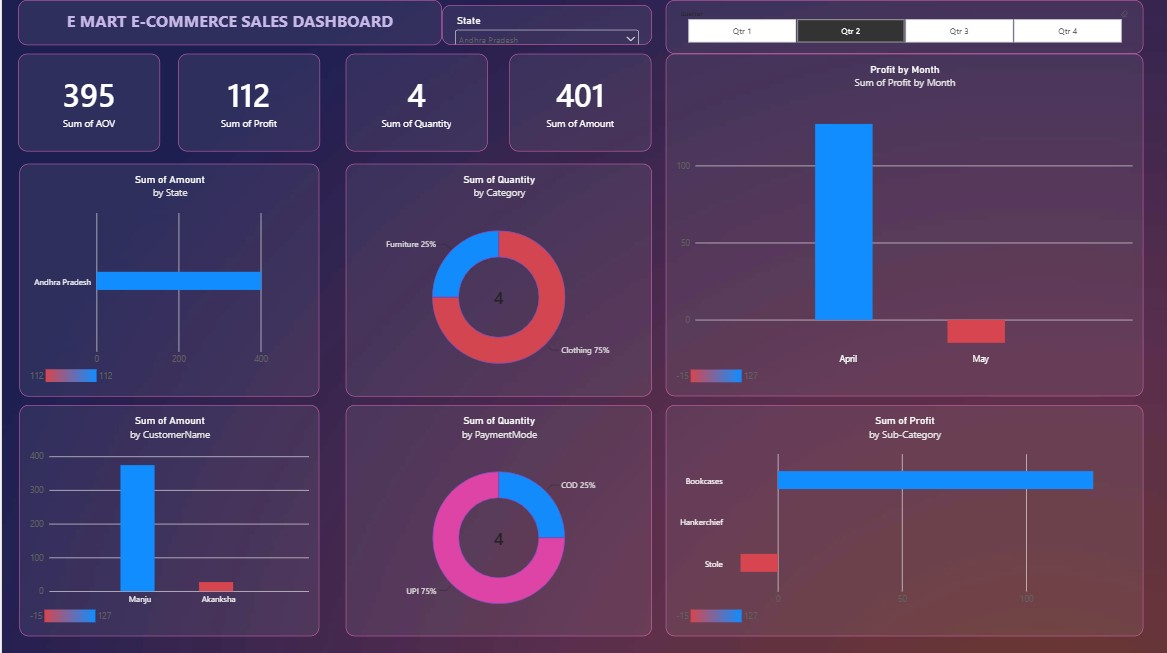

What the dashboard file says about the page in this screenshot:
{"tool":"powerbi","page":{"name":"Page 1","canvas":[1920,1080],"ordinal":0},"visuals":[{"type":"textbox","box":[26.8,0,697.8,74.1],"z":0},{"type":"columnChart","title":"Profit by Month","fields":{"Category":["Orders.Order Date.Variation.Date Hierarchy.Month"],"Y":["Sum(Details.Profit)"]},"box":[1093,88.5,786.3,564],"z":1000},{"type":"barChart","fields":{"Category":["Details.Sub-Category"],"Y":["Sum(Details.Profit)"]},"box":[1093,666.9,786.3,380.8],"z":2000},{"type":"donutChart","fields":{"Category":["Details.Category"],"Y":["Sum(Details.Quantity)"]},"box":[566,269.6,504.3,382.8],"z":3000},{"type":"donutChart","fields":{"Series":["Details.PaymentMode"],"Y":["Sum(Details.Quantity)"]},"box":[566,666.9,504.3,380.8],"z":4000},{"type":"cardVisual","fields":{"Data":["Sum(Details.Amount)"]},"box":[835.7,89.3,233.9,160.7],"z":5000},{"type":"cardVisual","fields":{"Data":["Sum(Details.Quantity)"]},"box":[566,88.5,233.9,160.7],"z":6000},{"type":"cardVisual","fields":{"Data":["Sum(Details.Profit)"]},"box":[290.2,88.5,233.9,160.7],"z":7000},{"type":"cardVisual","fields":{"Data":["Sum(Details.AOV)"]},"box":[26.8,89.3,233.9,160.7],"z":8000},{"type":"barChart","fields":{"Category":["Orders.State"],"Y":["Sum(Details.Amount)"]},"box":[28.8,269.6,494,382.8],"z":8001},{"type":"columnChart","fields":{"Category":["Orders.CustomerName"],"Y":["Sum(Details.Amount)"]},"box":[28.8,666.9,494,380.8],"z":8002},{"type":"slicer","fields":{"Values":["Orders.Order Date.Variation.Date Hierarchy.Quarter"]},"box":[1093,0,786.3,88.5],"z":8003},{"type":"slicer","fields":{"Values":["Orders.State"]},"box":[724.5,8.2,345.8,65.9],"z":8004}]}

Visuals, with their boxes in screenshot pixels (x1, y1, x2, y2), scaled from the page's 1920x1080 canvas onto the 1167x653 screenshot:
textbox: 16 0 440 45
"Profit by Month" columnChart: 664 54 1142 395
barChart - Details.Sub-Category x Sum(Details.Profit): 664 403 1142 633
donutChart - Details.Category x Sum(Details.Quantity): 344 163 651 394
donutChart - Details.PaymentMode x Sum(Details.Quantity): 344 403 651 633
cardVisual - Sum(Details.Amount): 508 54 650 151
cardVisual - Sum(Details.Quantity): 344 54 486 151
cardVisual - Sum(Details.Profit): 176 54 319 151
cardVisual - Sum(Details.AOV): 16 54 158 151
barChart - Orders.State x Sum(Details.Amount): 18 163 318 394
columnChart - Orders.CustomerName x Sum(Details.Amount): 18 403 318 633
slicer - Orders.Order Date.Variation.Date Hierarchy.Quarter: 664 0 1142 54
slicer - Orders.State: 440 5 651 45
